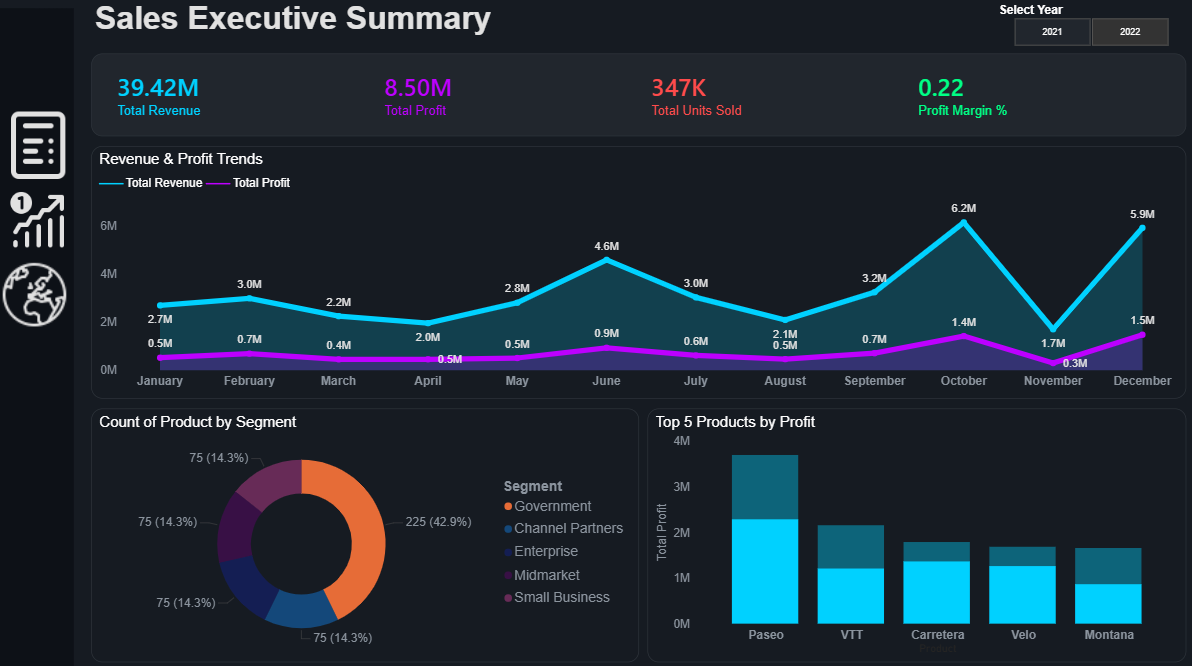

Layout of this report page (visuals, bound fields, positions):
{"tool":"powerbi","page":{"name":"Executive Overview","canvas":[1600,900],"ordinal":0},"visuals":[{"type":"shape","box":[0,16.7,105,1040],"z":0},{"type":"textbox","box":[127.5,0,560,72.5],"z":1000},{"type":"slicer","title":"Select Year","fields":{"Values":["Source.Date.Variation.Date Hierarchy.Year"]},"box":[1333.3,10,255,63],"z":2000},{"type":"cardVisual","fields":{"Data":["Key Measures.Total Revenue","Key Measures.Total Profit","Key Measures.Total Units Sold","Key Measures.Profit Margin %"]},"box":[128.3,76.7,1460,110],"z":3000},{"type":"lineChart","title":"Revenue & Profit Trends","fields":{"Category":["Source.Date.Variation.Date Hierarchy.Month"],"Y":["Key Measures.Total Revenue","Key Measures.Total Profit"]},"box":[128.3,200,1460,336.7],"z":4000},{"type":"image","box":[0,253.3,118.3,93.3],"z":5000},{"type":"donutChart","fields":{"Category":["Source.Segment"],"Y":["CountNonNull(Source.Product)"]},"box":[128.3,550,730,338.3],"z":6000},{"type":"clusteredColumnChart","title":"Top 5 Products by Profit","fields":{"Category":["Source.Product"],"Y":["Key Measures.Total Profit"]},"box":[870,550,718.3,338.3],"z":7000},{"type":"image","box":[0,145,115,108.3],"z":8000},{"type":"image","box":[6.7,346.7,91.7,103.3],"z":9000}]}

Visuals, with their boxes in screenshot pixels (x1, y1, x2, y2), scaled from the page's 1600x900 canvas onto the 1192x666 screenshot:
shape: <bbox>0, 12, 78, 665</bbox>
textbox: <bbox>95, 0, 512, 54</bbox>
"Select Year" slicer: <bbox>993, 7, 1183, 54</bbox>
cardVisual - Key Measures.Total Revenue x Key Measures.Total Profit: <bbox>96, 57, 1183, 138</bbox>
"Revenue & Profit Trends" lineChart: <bbox>96, 148, 1183, 397</bbox>
image: <bbox>0, 187, 88, 256</bbox>
donutChart - Source.Segment x CountNonNull(Source.Product): <bbox>96, 407, 639, 657</bbox>
"Top 5 Products by Profit" clusteredColumnChart: <bbox>648, 407, 1183, 657</bbox>
image: <bbox>0, 107, 86, 187</bbox>
image: <bbox>5, 257, 73, 333</bbox>
